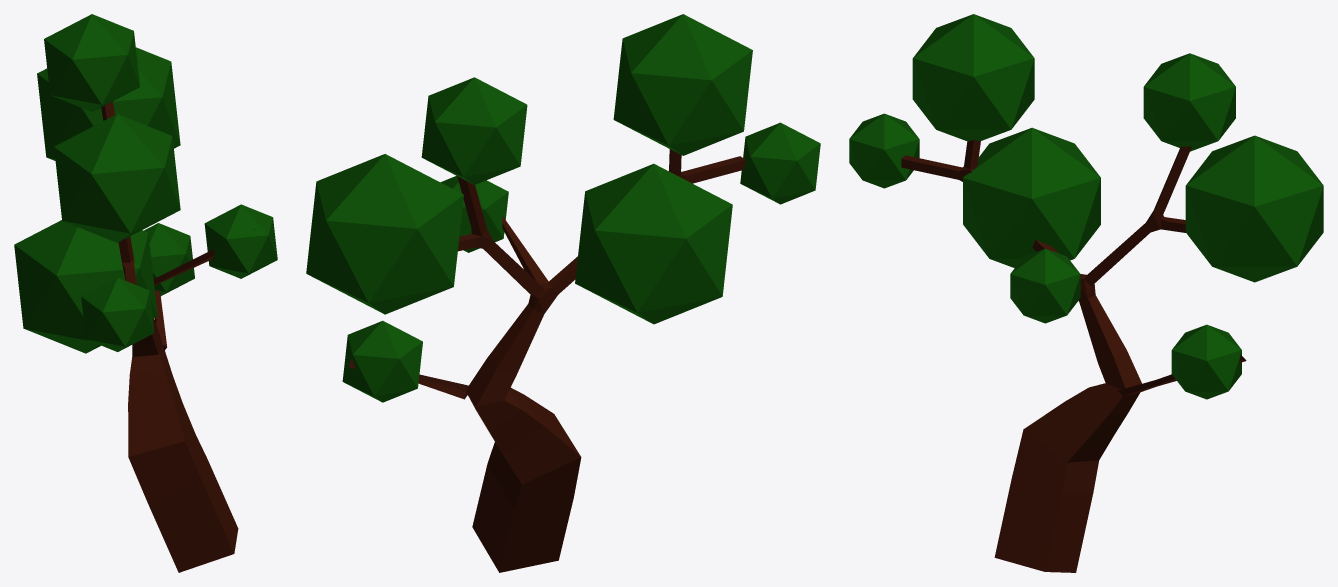
The model's file is pohontre.fbx.
3 views of the same model, side by side, from view 1: azimuth 30°, elevation 25°; view 2: azimuth 150°, elevation 25°; view 3: azimuth 270°, elevation 25° (orthographic). The views are drawn at different scales.
Parts seen in each view (by area): view 1: Cube, Icosphere.001, Icosphere.005, Icosphere.002, Icosphere.003, Icosphere, Icosphere.007, Icosphere.006, Cube.002, Cube.003; view 2: Cube, Icosphere.003, Icosphere.005, Icosphere.001, Icosphere.002, Icosphere, Icosphere.006, Icosphere.007, Cube.002, Cube.003; view 3: Cube, Icosphere.003, Icosphere.005, Icosphere.001, Icosphere.002, Icosphere.007, Icosphere.006, Icosphere.
Boxes of the visible parts, x1,y1,x2,y2 form: Cube: (101, 101, 238, 572); Icosphere.001: (54, 114, 180, 242); Icosphere.005: (14, 220, 157, 353); Icosphere.002: (44, 14, 139, 111); Icosphere.003: (37, 47, 180, 160); Icosphere: (81, 277, 154, 351); Icosphere.007: (204, 204, 277, 278); Icosphere.006: (144, 223, 194, 295); Cube.002: (153, 229, 254, 285); Cube.003: (154, 290, 166, 350); Cube: (457, 149, 745, 572); Icosphere.003: (306, 154, 463, 314); Icosphere.005: (575, 163, 732, 324); Icosphere.001: (613, 14, 752, 155); Icosphere.002: (421, 77, 527, 184); Icosphere: (740, 122, 820, 204); Icosphere.006: (342, 320, 422, 402); Icosphere.007: (440, 176, 508, 252); Cube.002: (502, 216, 556, 293); Cube.003: (349, 359, 468, 399); Cube: (901, 140, 1191, 572); Icosphere.003: (1185, 135, 1323, 282); Icosphere.005: (963, 127, 1100, 267); Icosphere.001: (912, 14, 1034, 141); Icosphere.002: (1143, 53, 1235, 151); Icosphere.007: (1010, 248, 1080, 323); Icosphere.006: (1171, 324, 1241, 399); Icosphere: (849, 113, 919, 188).
Size of the model in its own units: 572 by 1014 by 867.
